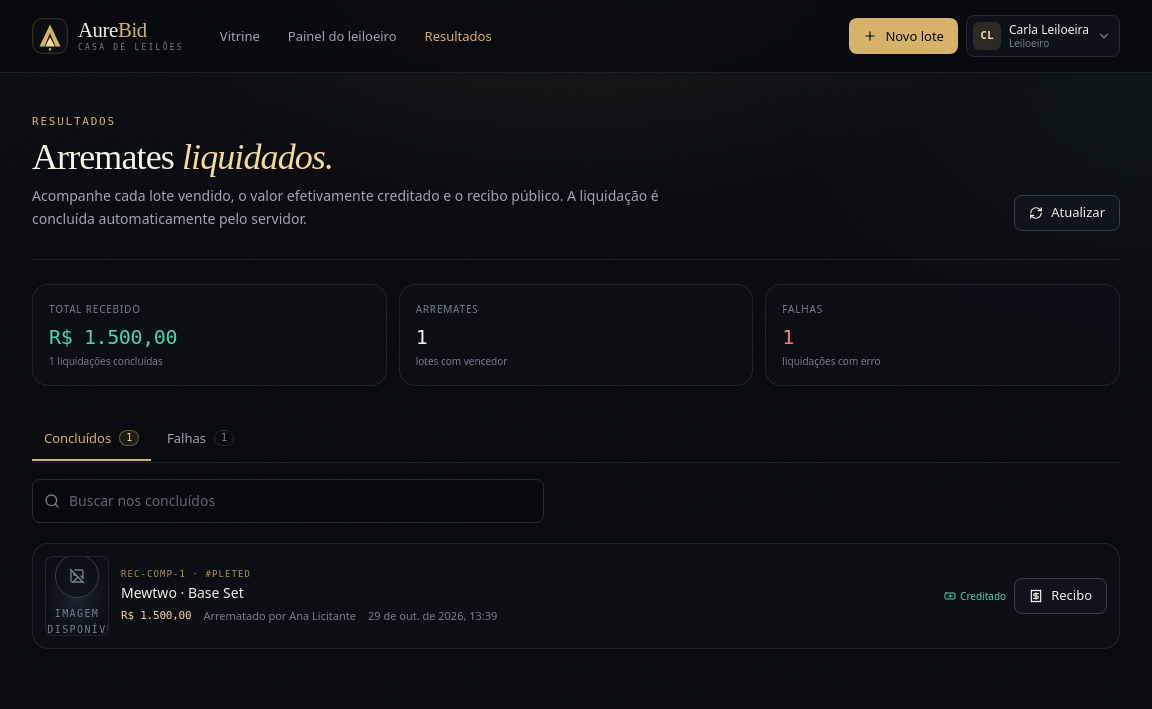
resultados do leiloeiro › alterna entre concluídos e falhas e filtra por busca
Expected: the text "Mewtwo · Base Set" is shown, [121,583,244,602]
Click the button "Falhas 1".
click(200, 439)  # box [155,418,246,461]
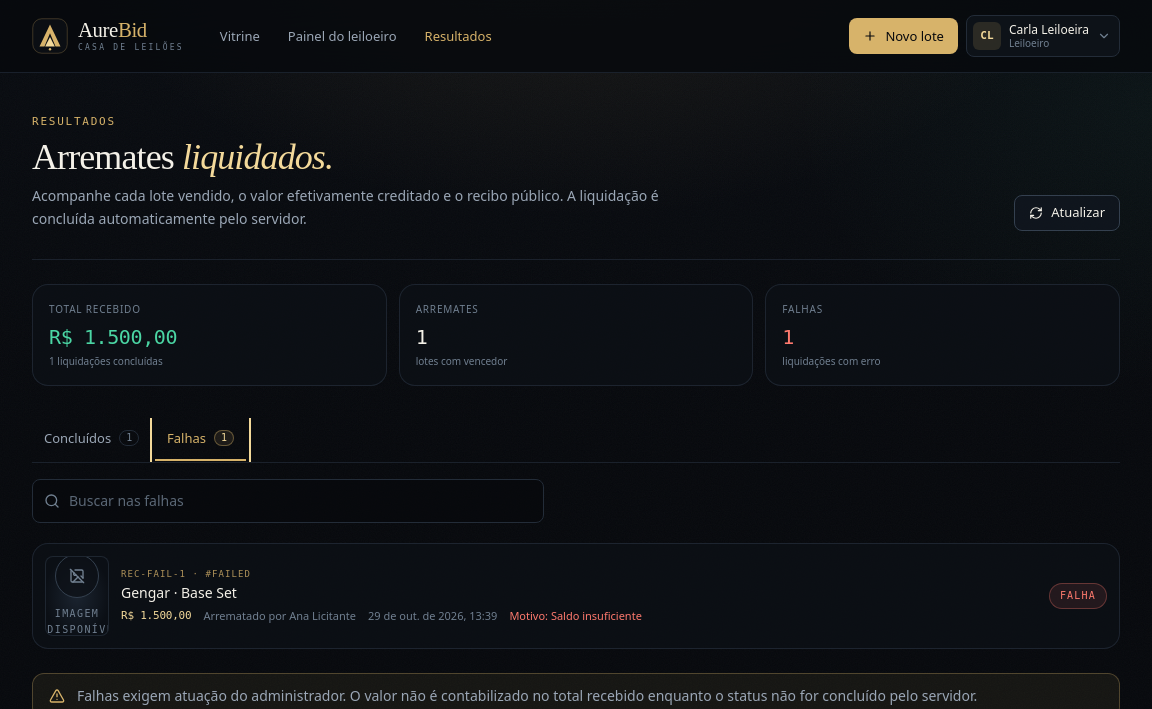
Expected: the text "Gengar · Base Set" is shown, [121,583,237,602]
Expected: the text "Motivo: Saldo insuficiente" is shown, [509,607,642,625]
Expected: the text "Falhas exigem atuação do administrador" is shown, [77,686,977,705]
Type "mewtwo" into the search field named "Buscar nas liquidações com falha".
click(288, 501); type("mewtwo")  # box [32,479,544,523]
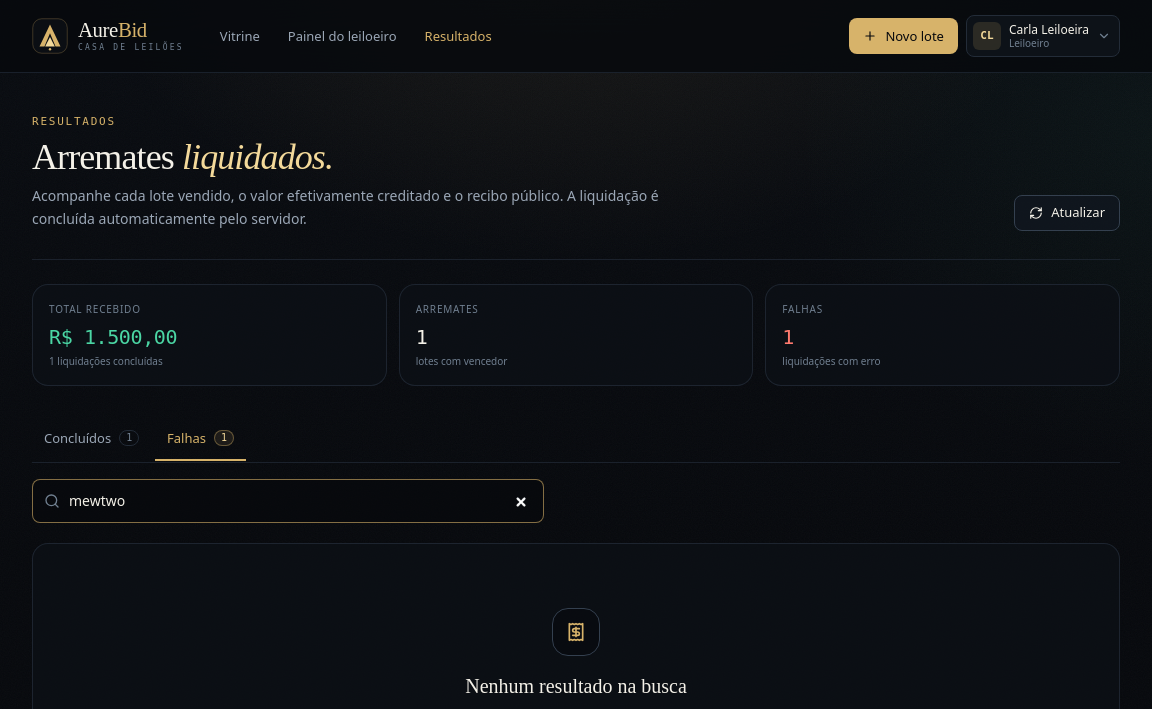
Expected: the heading "Nenhum resultado na busca" is shown, [465,672,687,700]
